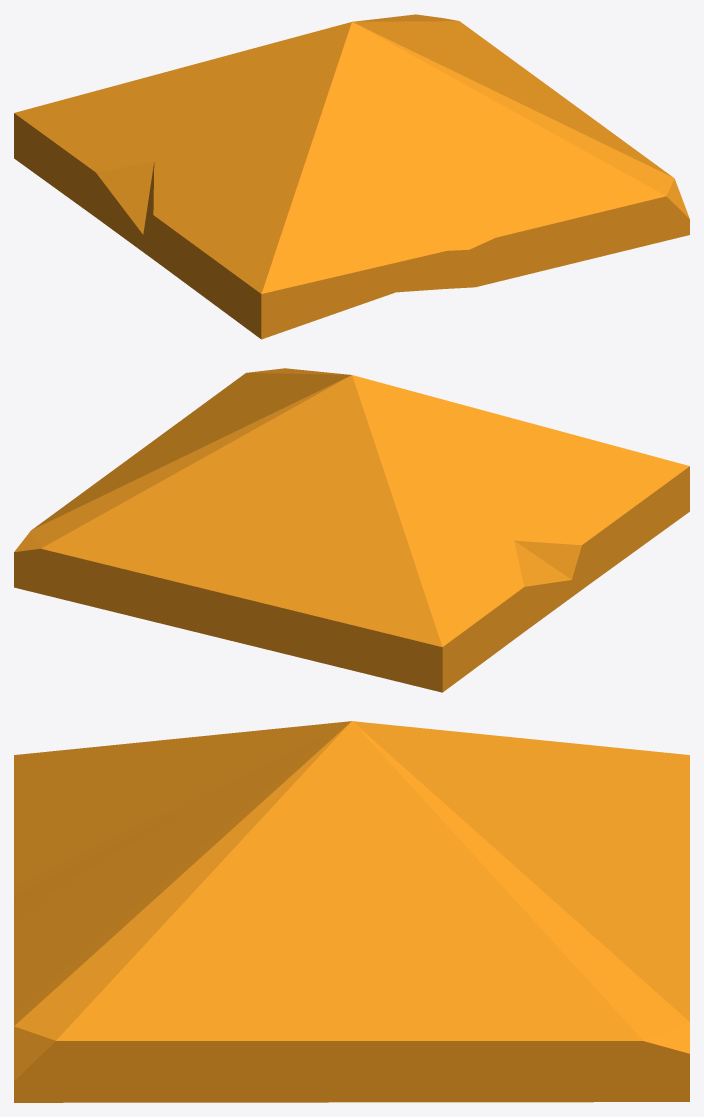
Rendered from SM_Buildings_RoofAngledPoint_1x1_01P.fbx.
The picture shows the model from 3 angles, top to bottom: view 1: azimuth 30°, elevation 25°; view 2: azimuth 150°, elevation 25°; view 3: azimuth 270°, elevation 25°; orthographic projection. The views are drawn at different scales.
Parts seen in each view (by area): view 1: SM_Buildings_RoofAngledPoint_1x1_01P; view 2: SM_Buildings_RoofAngledPoint_1x1_01P; view 3: SM_Buildings_RoofAngledPoint_1x1_01P.
Boxes of the visible parts, x1,y1,x2,y2 form: SM_Buildings_RoofAngledPoint_1x1_01P: (14,14,689,339); SM_Buildings_RoofAngledPoint_1x1_01P: (14,368,689,692); SM_Buildings_RoofAngledPoint_1x1_01P: (14,721,689,1102).
Size of the model in its own units: 100 by 39 by 100.
